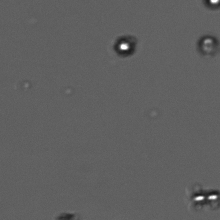Living Cell: (113, 34, 136, 56), (197, 35, 217, 56), (206, 188, 220, 209), (192, 190, 206, 207), (204, 1, 220, 9)
